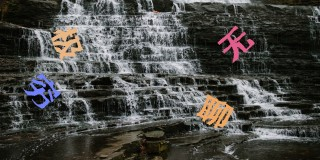无: (217, 25, 255, 62)
极: (48, 24, 82, 59)
穷: (25, 73, 59, 111)
聊: (196, 94, 233, 130)
